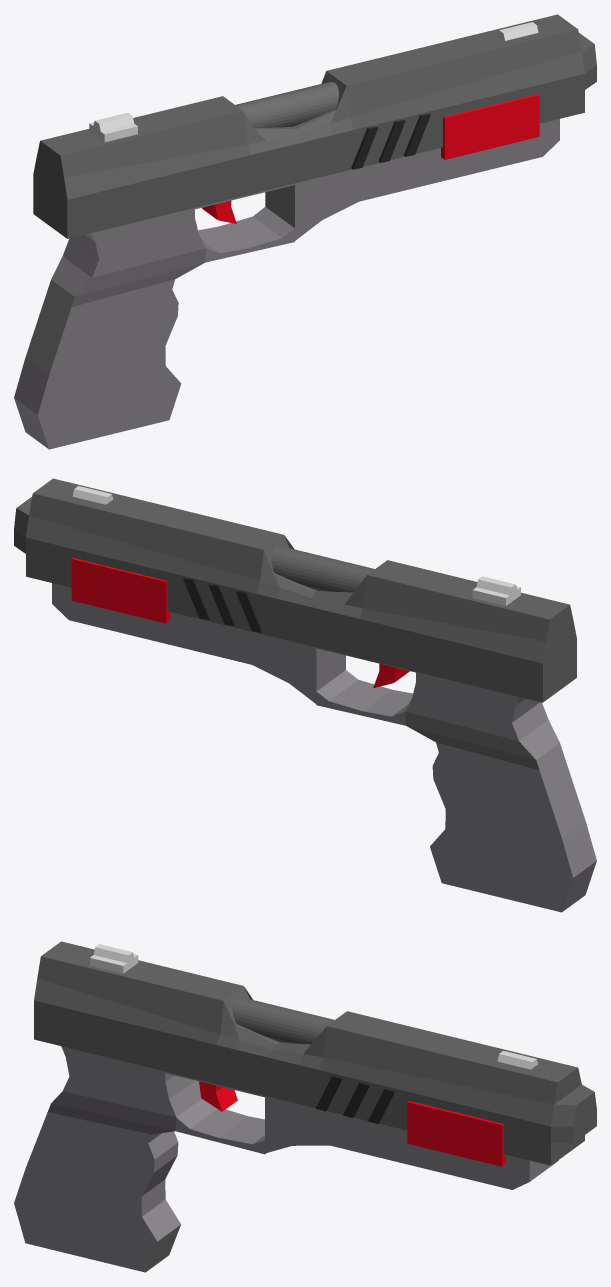
The model's file is ScifiPistol.fbx.
3 renders of one model, top to bottom at view 1: azimuth 30°, elevation 25°; view 2: azimuth 150°, elevation 25°; view 3: azimuth 330°, elevation 25°, orthographic.
Visible parts, largest first — view 1: Cube.001, Cube, Cube.008, Cylinder, Cube.003; view 2: Cube.001, Cube, Cube.008, Cylinder, Cube.003; view 3: Cube.001, Cube, Cube.008, Cylinder, Cube.003, Cube.002, Cube.004, Cube.007, Cube.006, Cube.005.
Boxes of the visible parts, x1,y1,x2,y2 form: Cube.001: (33, 14, 596, 238); Cube: (14, 119, 559, 449); Cube.008: (441, 94, 539, 159); Cylinder: (235, 81, 338, 128); Cube.003: (89, 112, 137, 142); Cube.001: (14, 478, 576, 702); Cube: (52, 583, 596, 912); Cube.008: (71, 558, 170, 623); Cylinder: (271, 545, 374, 592); Cube.003: (472, 576, 520, 605); Cube.001: (34, 941, 596, 1165); Cube: (14, 1046, 558, 1272); Cube.008: (407, 1101, 505, 1166); Cylinder: (232, 997, 334, 1044); Cube.003: (90, 944, 138, 973); Cube.002: (199, 1081, 237, 1111); Cube.004: (497, 1051, 537, 1069); Cube.007: (315, 1075, 342, 1111); Cube.006: (343, 1081, 369, 1117); Cube.005: (368, 1088, 395, 1123).
Size of the model in its own units: 73.38 by 38.05 by 8.6.
